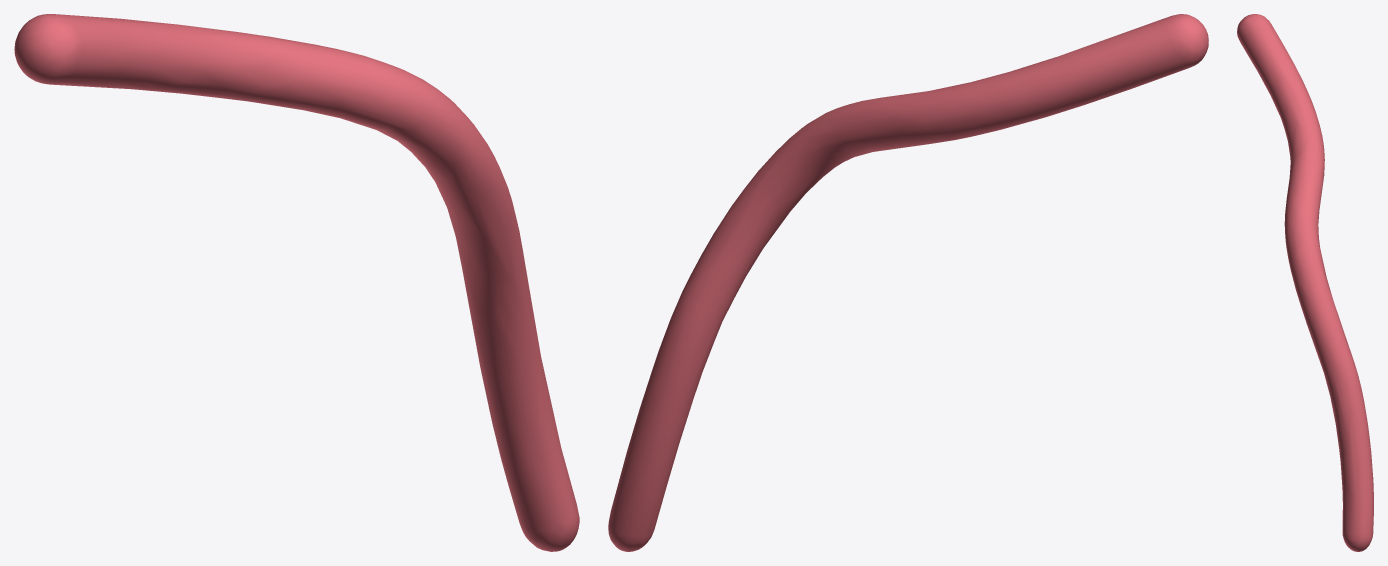
File: fma22656_fj2216.glb
3 renders of one model, left to right at view 1: azimuth 30°, elevation 25°; view 2: azimuth 150°, elevation 25°; view 3: azimuth 270°, elevation 25°, orthographic. The views are drawn at different scales.
Parts seen in each view (by area): view 1: FMA22656_FJ2216; view 2: FMA22656_FJ2216; view 3: FMA22656_FJ2216.
Part boxes in pixels (left/top/right/bottom): FMA22656_FJ2216: left=14, top=14, right=579, bottom=551; FMA22656_FJ2216: left=608, top=14, right=1208, bottom=551; FMA22656_FJ2216: left=1237, top=14, right=1373, bottom=551.
Bounding box in the file's own units: 0.0745 × 0.0817 × 0.0263.
